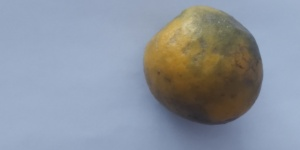BAD: (144, 5, 264, 127)
